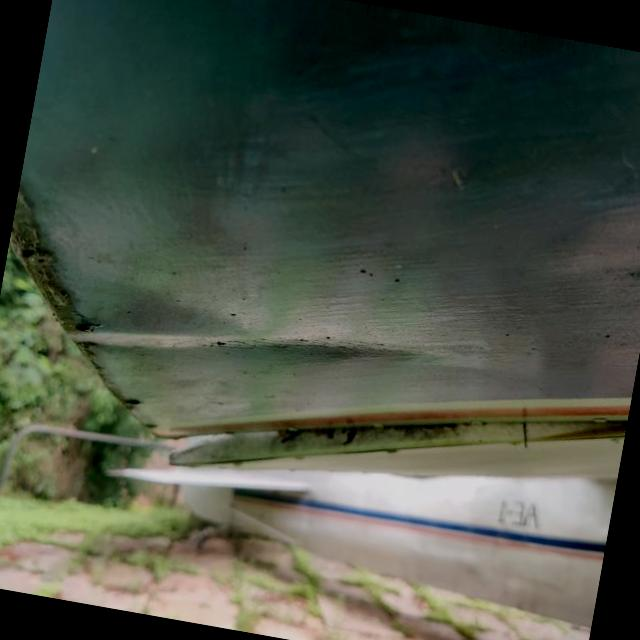dent: (33, 244, 440, 452)
